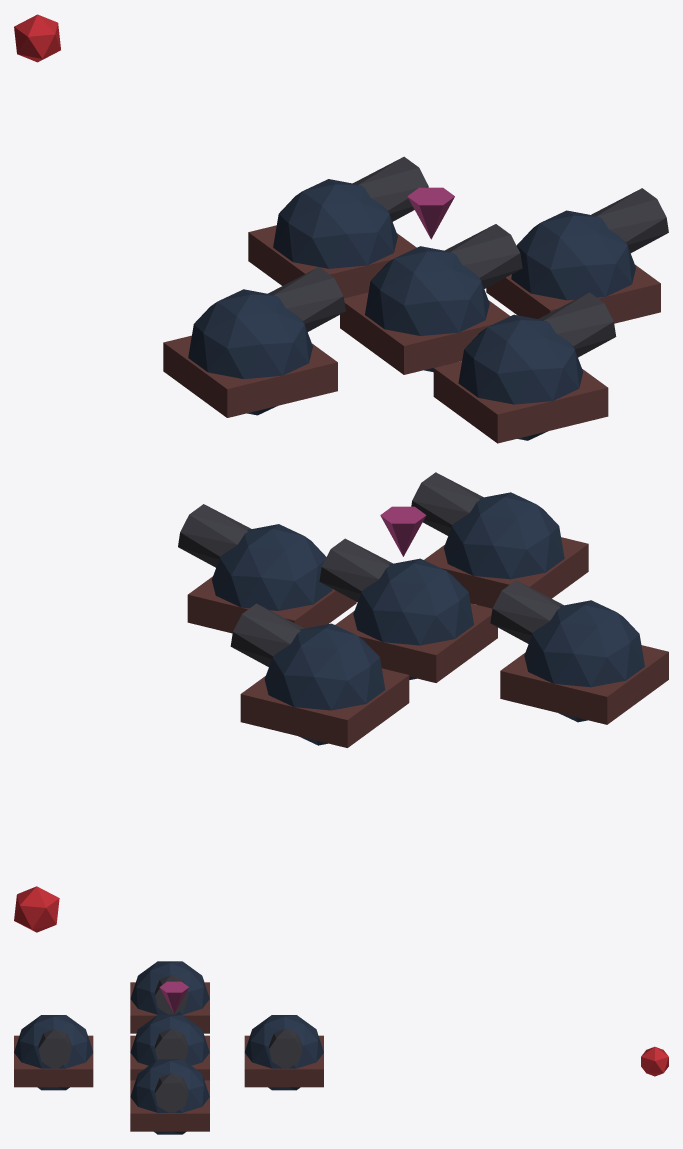
The model's file is assets.gltf.
3 renders of one model, top to bottom at view 1: azimuth 30°, elevation 25°; view 2: azimuth 150°, elevation 25°; view 3: azimuth 270°, elevation 25°, orthographic. The views are drawn at different scales.
Parts seen in each view (by area): view 1: canon.004, canon.002, canon, canon.001, canon.003, bomb, arrow; view 2: canon.003, canon.002, canon, canon.004, canon.001, bomb, arrow; view 3: canon.004, canon.003, canon.001, canon.002, canon, bomb, arrow.
Boxes of the visible parts, left/top/right/bottom form: canon.004: left=433, top=292, right=616, bottom=443; canon.002: left=163, top=267, right=345, bottom=417; canon: left=340, top=224, right=522, bottom=374; canon.001: left=486, top=188, right=668, bottom=323; canon.003: left=248, top=156, right=428, bottom=298; bomb: left=14, top=14, right=60, bottom=62; arrow: left=407, top=187, right=454, bottom=239; canon.003: left=230, top=603, right=409, bottom=747; canon.002: left=490, top=580, right=668, bottom=724; canon: left=319, top=538, right=497, bottom=682; canon.004: left=411, top=472, right=588, bottom=608; canon.001: left=178, top=504, right=356, bottom=633; bomb: left=14, top=886, right=59, bottom=932; arrow: left=380, top=506, right=426, bottom=556; canon.004: left=14, top=1015, right=93, bottom=1090; canon.003: left=244, top=1015, right=323, bottom=1090; canon.001: left=130, top=1059, right=209, bottom=1134; canon.002: left=130, top=961, right=209, bottom=1033; canon: left=130, top=1015, right=209, bottom=1080; bomb: left=641, top=1046, right=668, bottom=1076; arrow: left=159, top=981, right=188, bottom=1013.
Bounding box in the file's own units: 8.42 × 2.88 × 16.49.
1 material, 1 textured.
